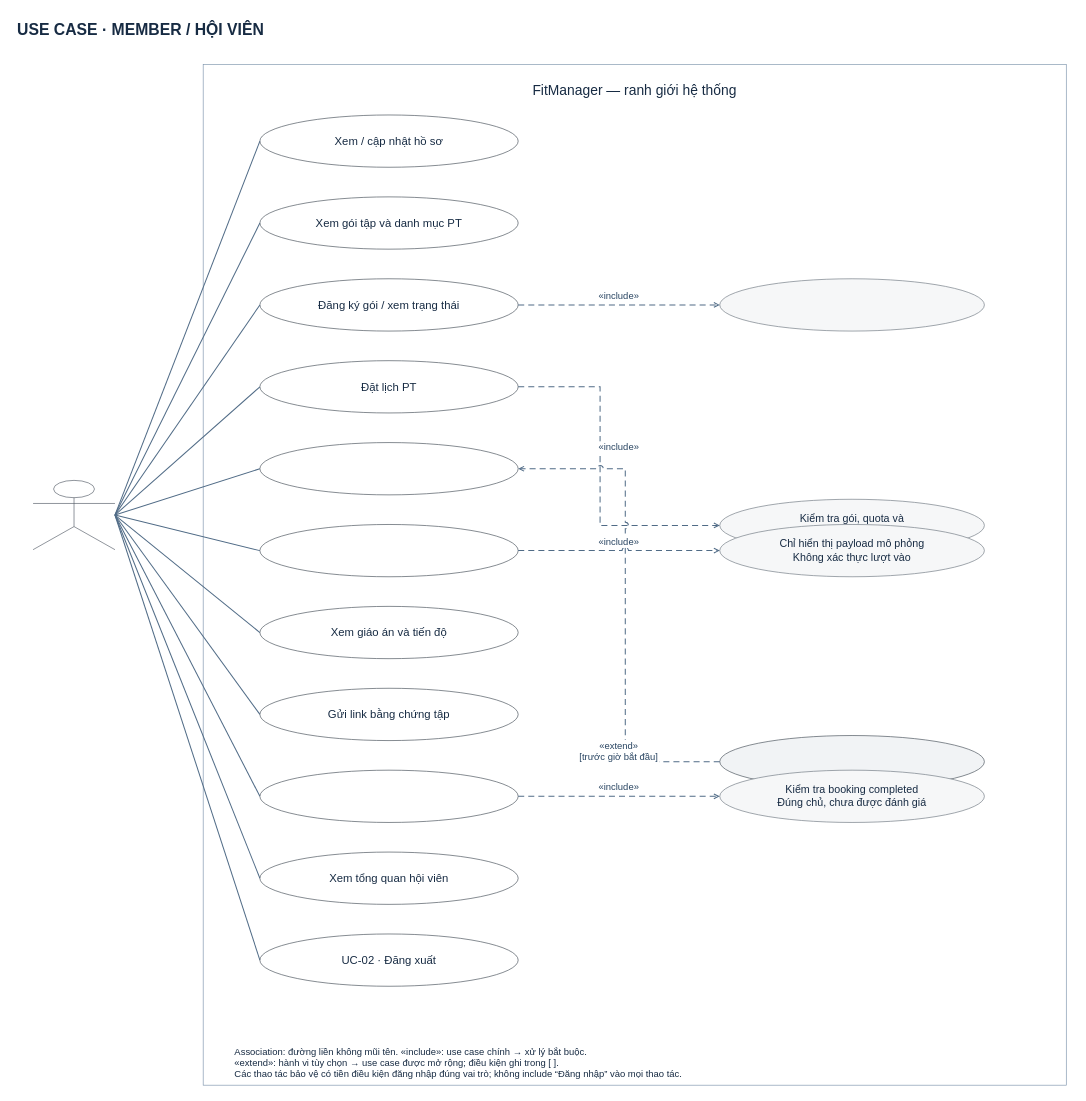
Some shapes in this 1086 by 1101 pixel diagram are drawn without their labels. Each missing label, with the centre of its shape:
"Hủy lịch của mình" goes at pixel 851 761.
"Member / Hội viên" goes at pixel 73 515.
"Server chốt giá và quyền lợi Trạng thái pending / unpaid" goes at pixel 851 304.
"Xem / hủy lịch của mình" goes at pixel 388 468.
"Xem QR check-in mô phỏng" goes at pixel 388 550.
"Đánh giá buổi đã hoàn thành" goes at pixel 388 796.
